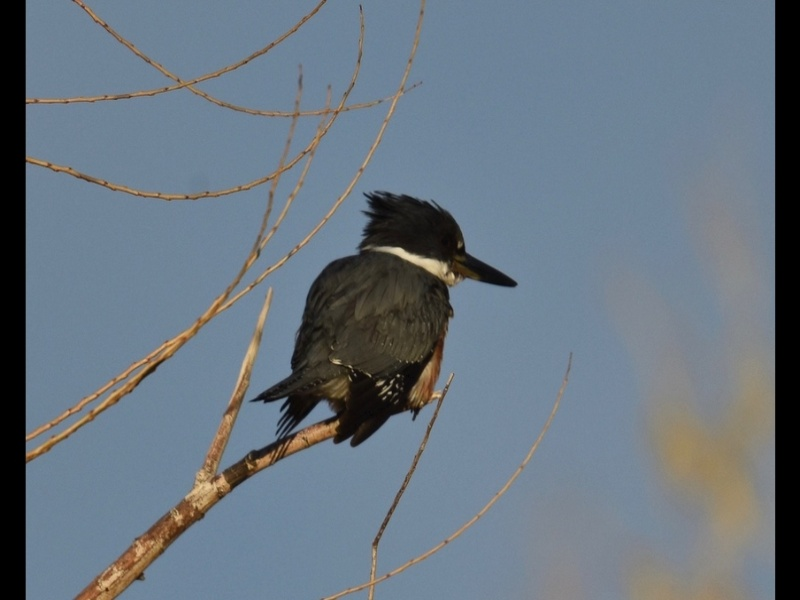kingfisher: (255, 183, 522, 455)
